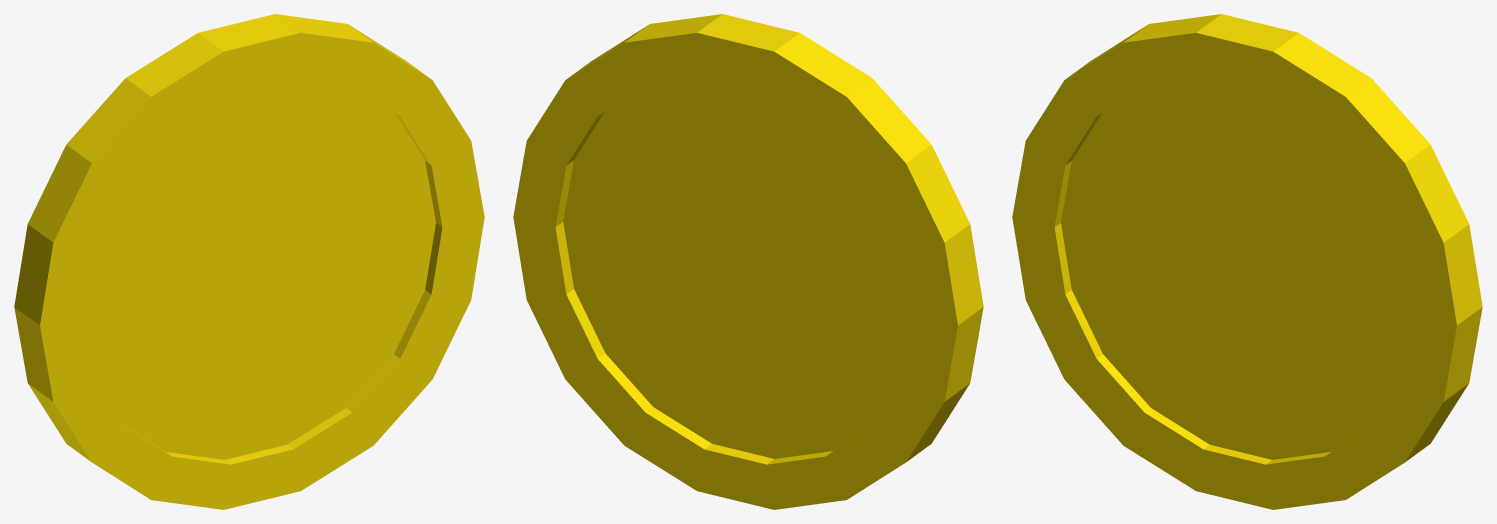
Rendered from Coin.dae.
The picture shows the model from 3 angles, left to right: view 1: azimuth 30°, elevation 25°; view 2: azimuth 150°, elevation 25°; view 3: azimuth 330°, elevation 25°; orthographic projection.
Visible parts, largest first — view 1: Coin; view 2: Coin; view 3: Coin.
Boxes of the visible parts, bbox=[...] form: Coin: bbox=[14, 14, 484, 509]; Coin: bbox=[513, 14, 983, 509]; Coin: bbox=[1012, 14, 1482, 509].
Bounding box in the file's own units: 2 × 0.2 × 1.97.
